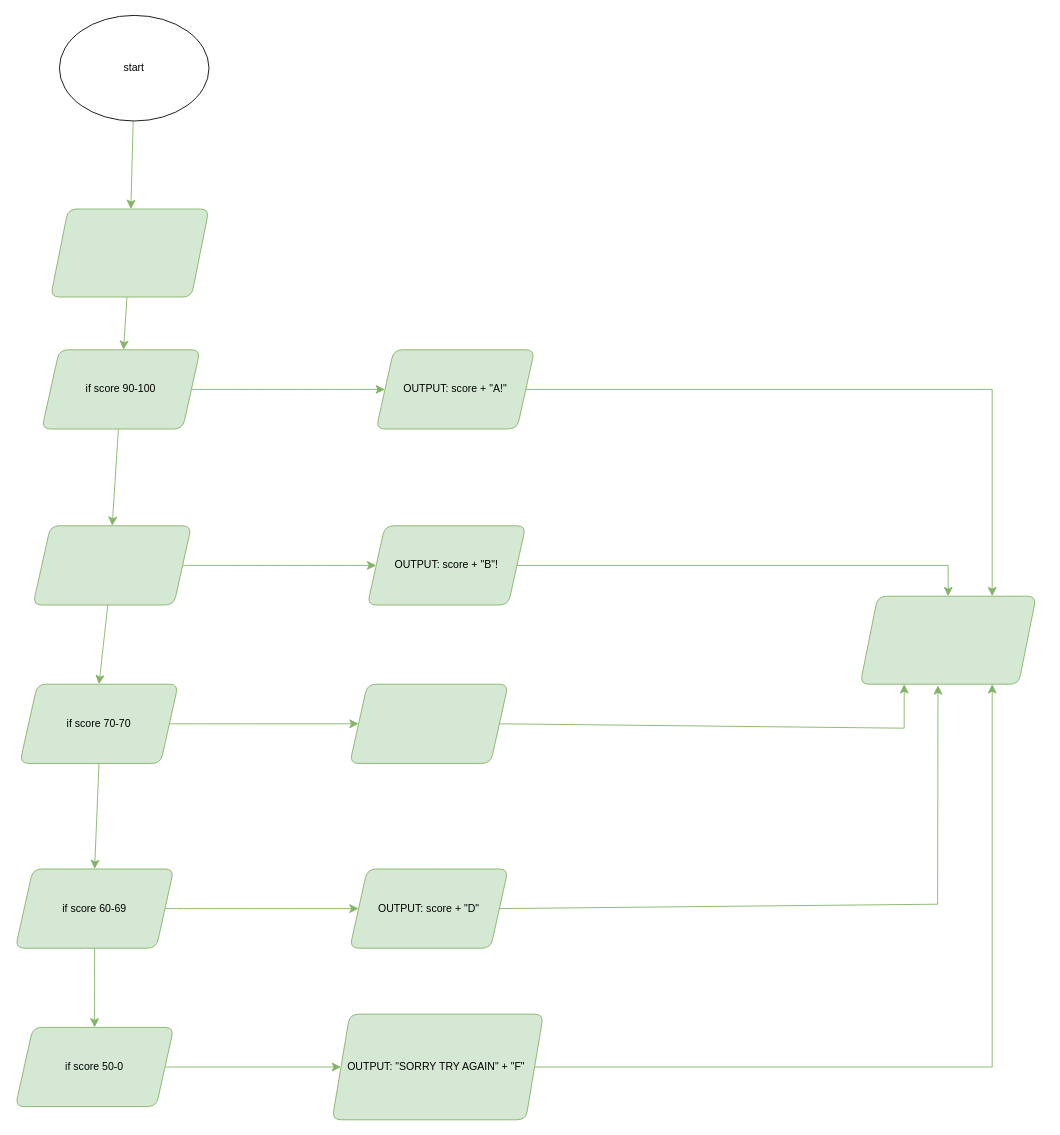
The diagram is 1060 pixels wide and 1135 high, and some of its shapes have lost their labels. Here are the shapes that lost their labels. From the top down, the centre of each, then its label:
(x=129, y=252): Input Score
(x=111, y=565): if score 80-89
(x=947, y=639): END
(x=428, y=723): OUTPUT: score + "C!"
